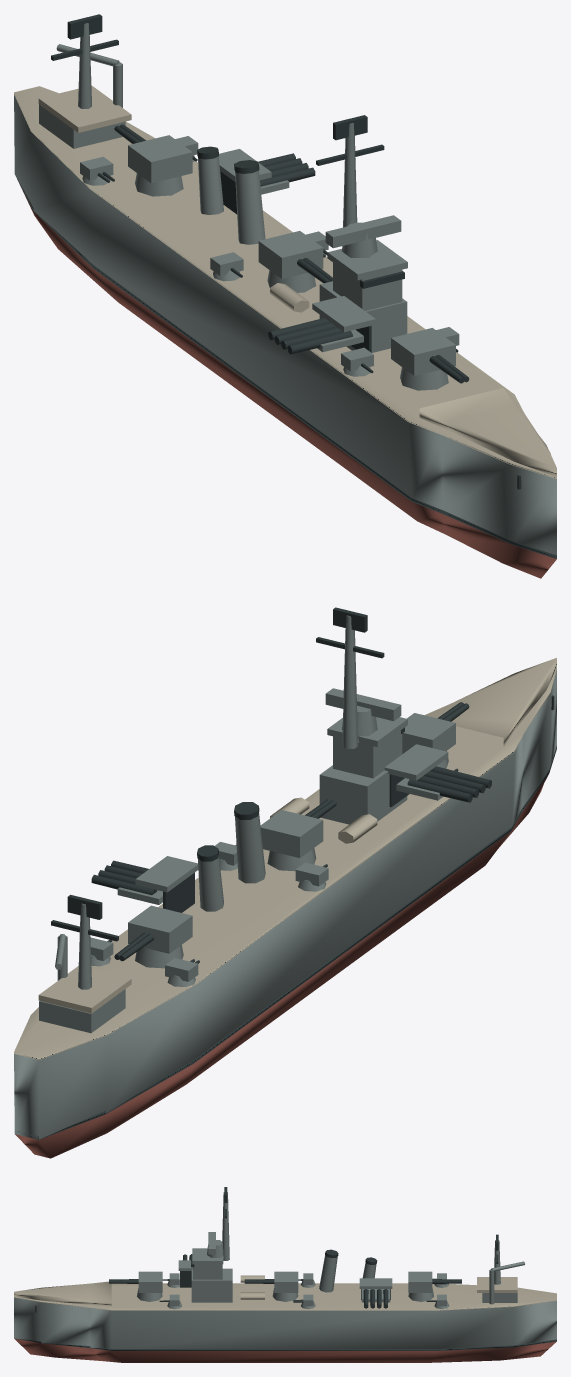
The model's file is mogami.glb.
3 renders of one model, top to bottom at view 1: azimuth 30°, elevation 25°; view 2: azimuth 150°, elevation 25°; view 3: azimuth 270°, elevation 25°, orthographic. The views are drawn at different scales.
Visible parts, largest first — view 1: Freeboard, Deck, UnderwaterHull, Forecastle, Aviation-Handling-Deck, Main-Casing-2, Waterline, Main-Casing-1, Main-Casing-0, Funnel-0-Body, Bridge-Command, Bridge-Foundation (+10 smaller); view 2: Freeboard, Deck, UnderwaterHull, Forecastle, Bridge-Foundation, Aviation-Handling-Deck, Main-Casing-1, Main-Casing-2, Waterline, Bridge-Command, AftDeckhouse, Funnel-0-Body (+12 smaller); view 3: Freeboard, Deck, UnderwaterHull, Forecastle, Bridge-Foundation, Waterline, Aviation-Handling-Deck, Main-Casing-0, Main-Casing-1, Main-Casing-2, Funnel-0-Body, Bridge-Command (+4 smaller).
Boxes of the visible parts, box(x1,y1,x2,y2) form: Freeboard: box(14, 95, 556, 558); Deck: box(14, 86, 556, 478); UnderwaterHull: box(17, 179, 556, 578); Forecastle: box(419, 388, 556, 477); Aviation-Handling-Deck: box(38, 85, 131, 132); Main-Casing-2: box(128, 135, 192, 183); Waterline: box(16, 176, 556, 558); Main-Casing-1: box(258, 231, 323, 278); Main-Casing-0: box(391, 328, 455, 375); Funnel-0-Body: box(235, 170, 265, 244); Bridge-Command: box(333, 262, 402, 310); Bridge-Foundation: box(319, 281, 407, 352); Freeboard: box(14, 669, 556, 1139); Deck: box(14, 667, 556, 1059); UnderwaterHull: box(15, 774, 548, 1158); Forecastle: box(424, 658, 556, 746); Bridge-Foundation: box(319, 765, 407, 824); Aviation-Handling-Deck: box(38, 966, 131, 1013); Main-Casing-1: box(260, 810, 323, 857); Main-Casing-2: box(128, 905, 192, 953); Waterline: box(17, 746, 556, 1139); Bridge-Command: box(333, 730, 402, 778); AftDeckhouse: box(39, 989, 125, 1033); Funnel-0-Body: box(235, 813, 265, 883); Freeboard: box(14, 1297, 556, 1348); Deck: box(14, 1283, 556, 1310); UnderwaterHull: box(14, 1338, 556, 1362); Forecastle: box(14, 1281, 111, 1306); Bridge-Foundation: box(191, 1268, 232, 1302); Waterline: box(16, 1338, 556, 1350); Aviation-Handling-Deck: box(477, 1277, 517, 1292); Main-Casing-0: box(138, 1271, 162, 1292); Main-Casing-1: box(274, 1271, 298, 1292); Main-Casing-2: box(408, 1271, 432, 1292); Funnel-0-Body: box(319, 1255, 337, 1292); Bridge-Command: box(193, 1264, 222, 1279).
Size of the model in its own units: 41.36 by 63.09 by 190.
